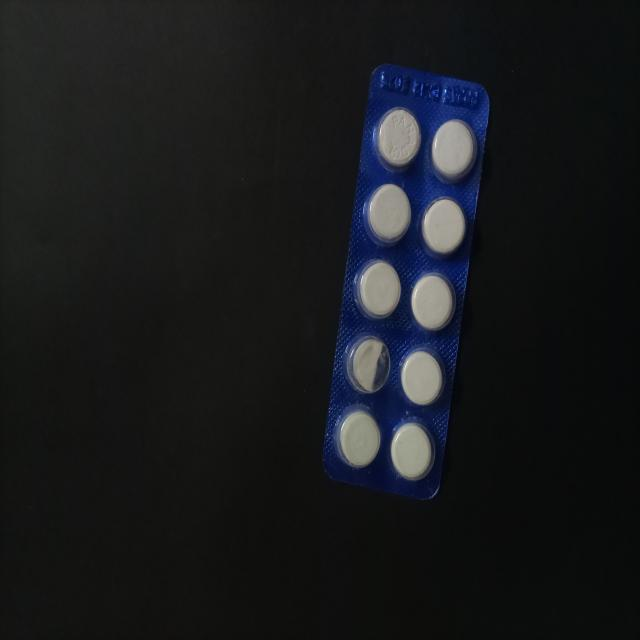defect: (342, 331, 393, 399)
